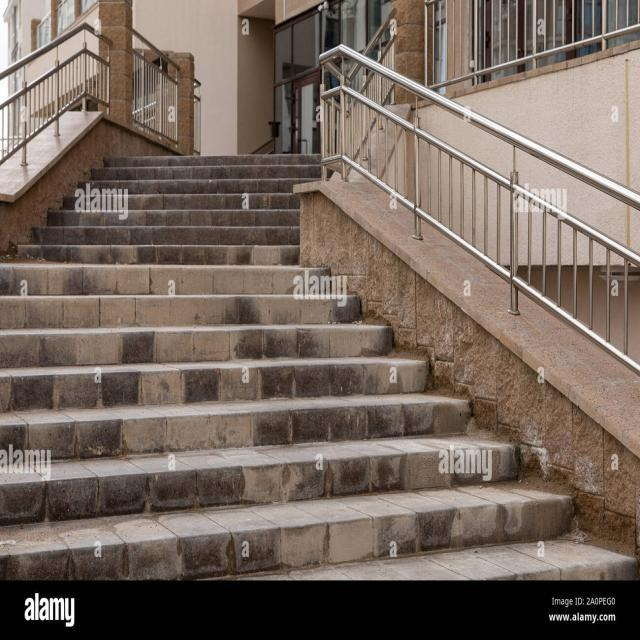stairs: (0, 150, 578, 580)
